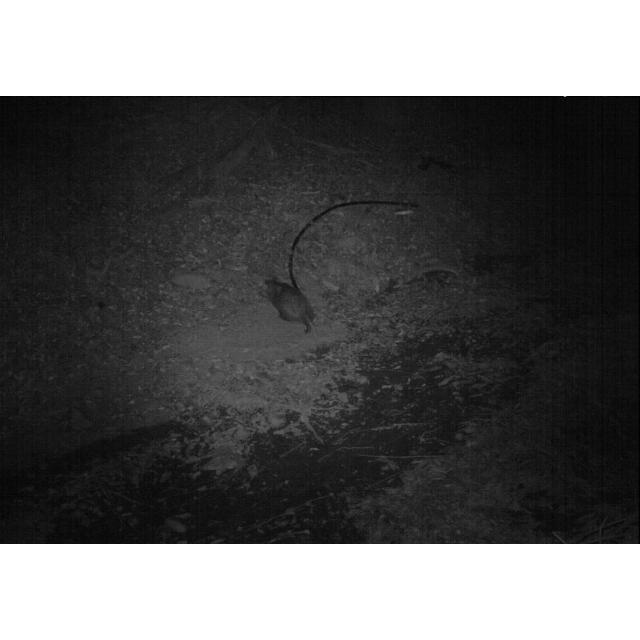animals: (265, 272, 315, 338)
